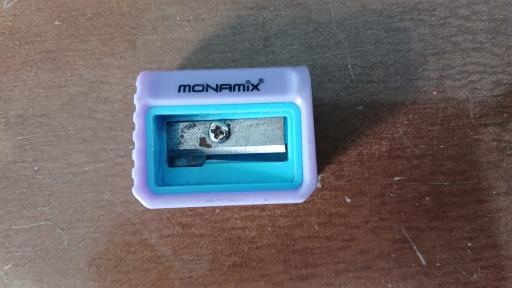Sharpener: (133, 68, 319, 209)
